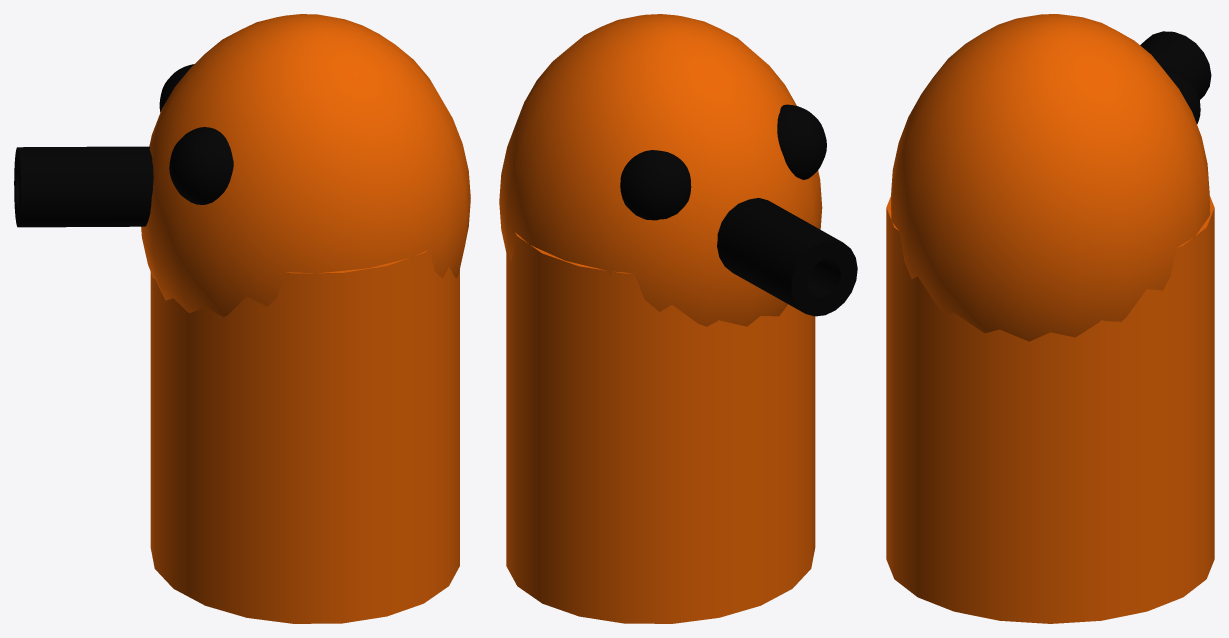
File: torret_animation.fbx
3 renders of one model, left to right at view 1: azimuth 30°, elevation 25°; view 2: azimuth 150°, elevation 25°; view 3: azimuth 270°, elevation 25°, orthographic.
Parts seen in each view (by area): view 1: pCylinder1, pSphere4; view 2: pCylinder1, pSphere4; view 3: pCylinder1, pSphere4.
Part boxes in pixels (x1,y1,x2,y2): pCylinder1: (150,249,459,623); pSphere4: (14,14,470,316); pCylinder1: (506,232,815,623); pSphere4: (499,14,857,326); pCylinder1: (886,195,1214,623); pSphere4: (890,14,1211,341).
Bounding box in the file's own units: 10.94 × 14.49 × 8.09.
